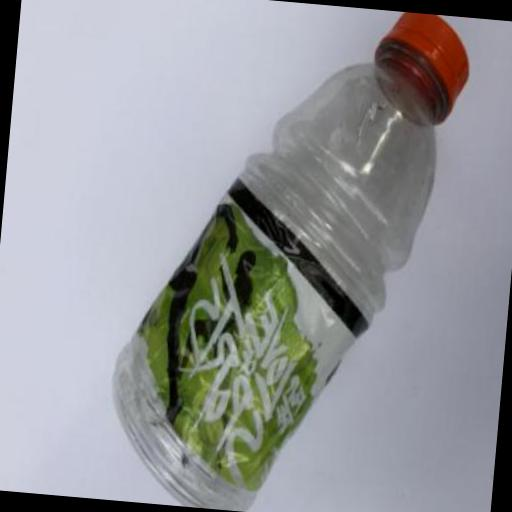plastic: (100, 0, 473, 512), (116, 171, 380, 500), (368, 10, 473, 130)
